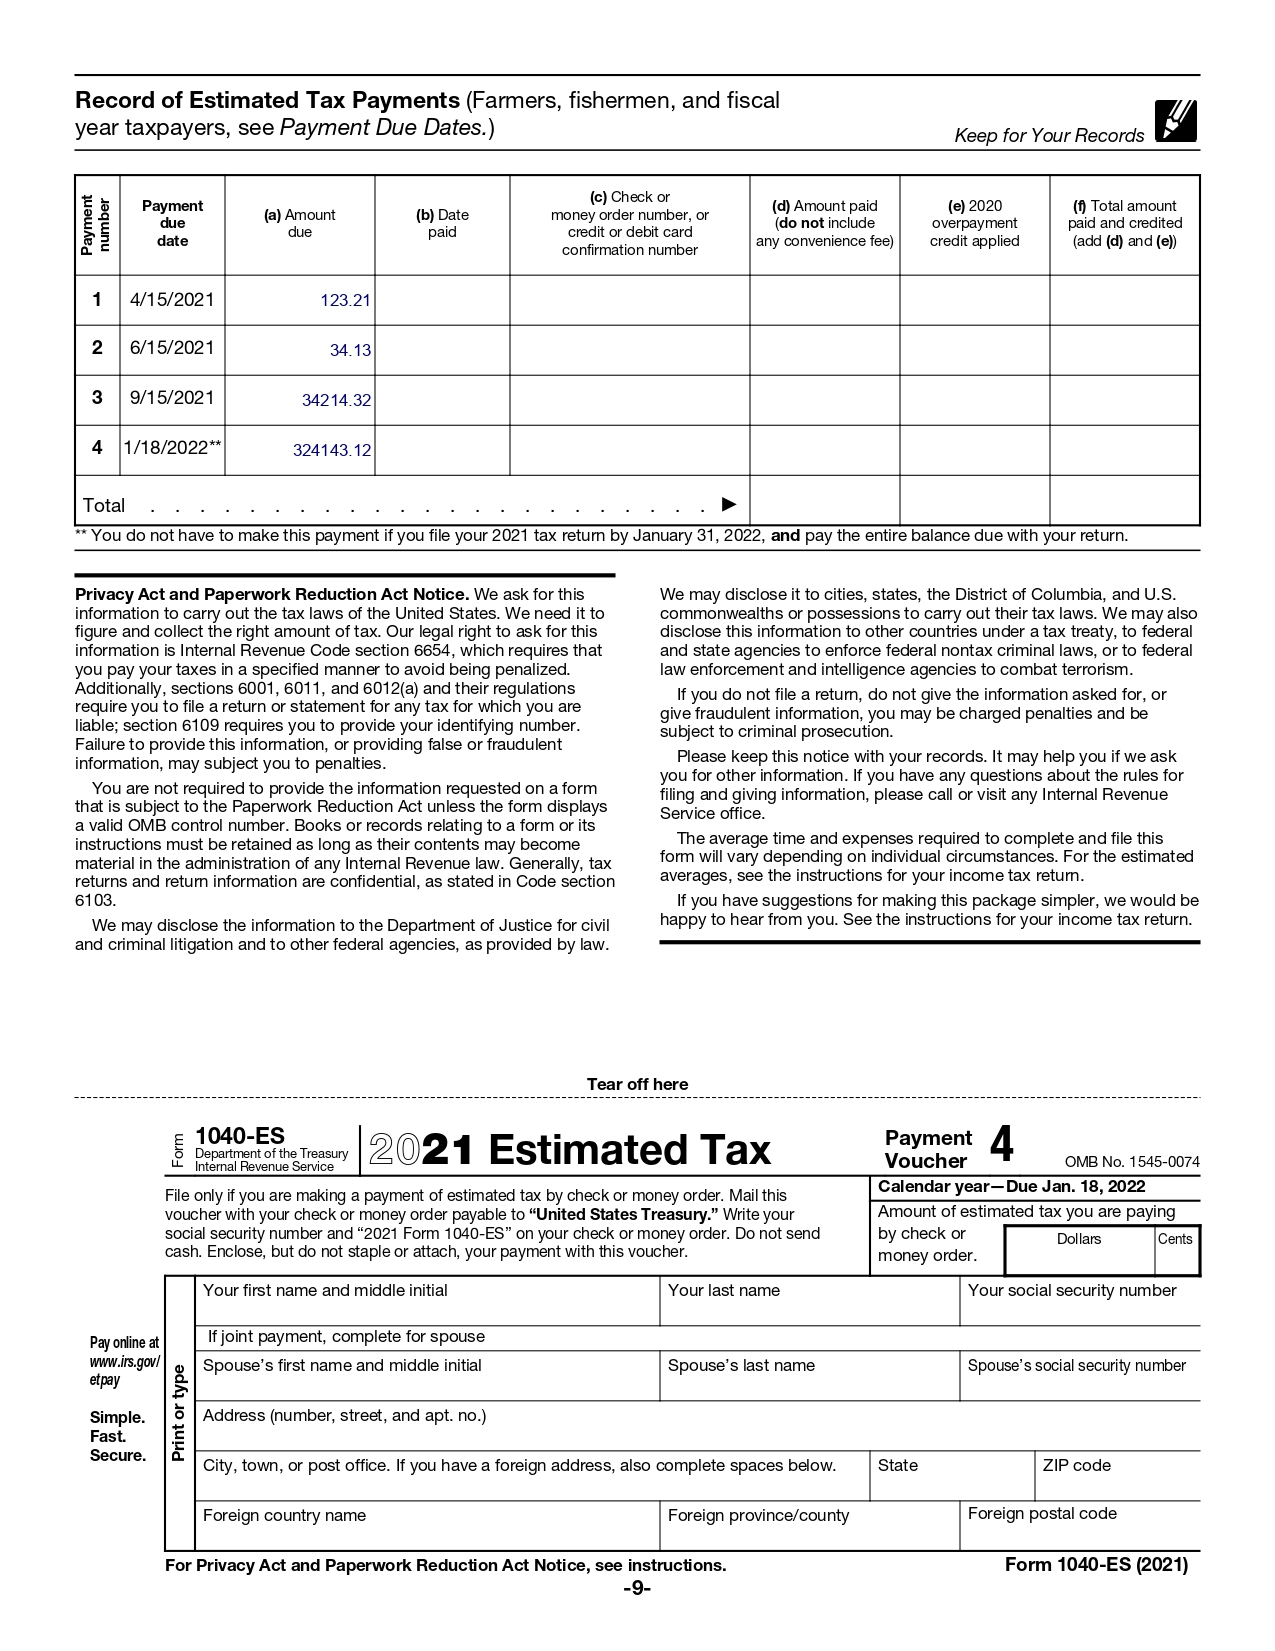form: (162, 1110, 1227, 1555)
table: (67, 162, 1215, 528)
